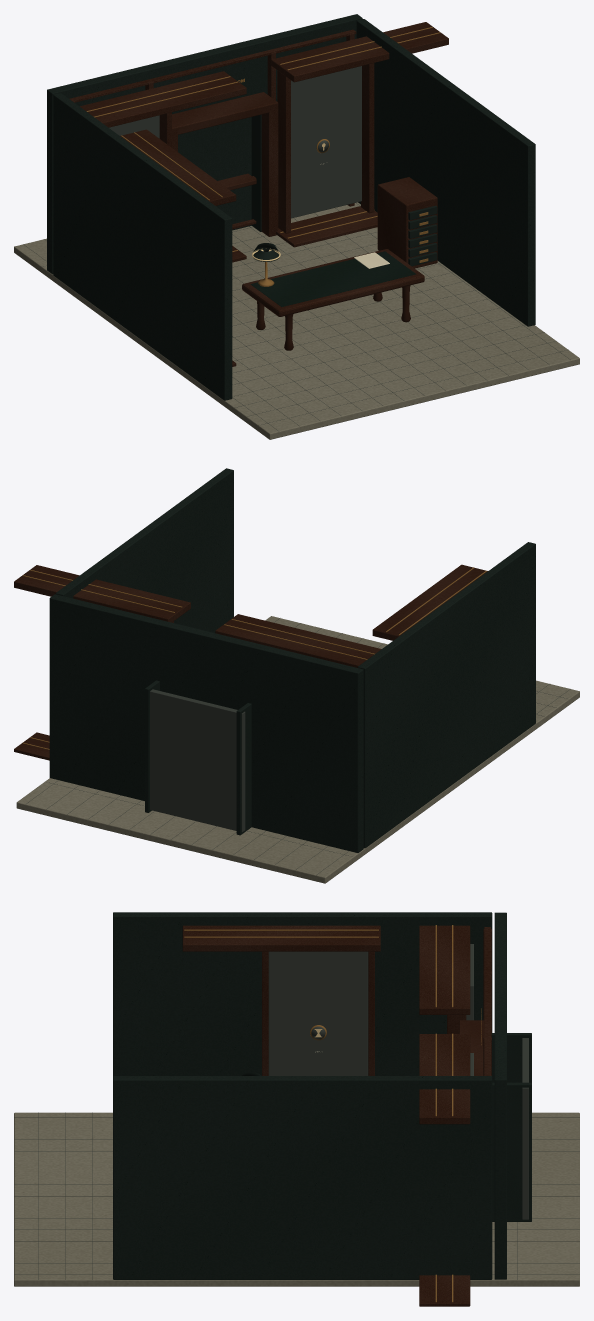
Rendered from conservation-room.glb.
3 views of the same model, one above another, from view 1: azimuth 30°, elevation 25°; view 2: azimuth 150°, elevation 25°; view 3: azimuth 270°, elevation 25° (orthographic). The views are drawn at different scales.
Parts seen in each view (by area): view 1: Ledger_Conservation_Room / Museum green, Conservation limestone floor, Ledger_Conservation_Room / Walnut, Ledger_Hidden_Marks / Walnut.001, Ledger_Hidden_Marks / Engraved charcoal.001, Ledger_Hidden_Marks / Walnut.002, Ledger_Conservation_Room / Engraved charcoal, Conservation felt work surface, Ledger_Hidden_Marks / Walnut, Ledger_Hidden_Marks / Aged brass.002, Ledger_Hidden_Marks / Engraved charcoal.002; view 2: Ledger_Conservation_Room / Museum green, Conservation limestone floor, Ledger_Conservation_Room / Engraved charcoal, Ledger_Hidden_Marks / Walnut.001, Ledger_Hidden_Marks / Walnut.002, Ledger_Hidden_Marks / Walnut, Ledger_Hidden_Marks / Aged brass.002; view 3: Ledger_Conservation_Room / Museum green, Conservation limestone floor, Ledger_Hidden_Marks / Engraved charcoal, Ledger_Hidden_Marks / Walnut, Ledger_Hidden_Marks / Walnut.001, Ledger_Hidden_Marks / Walnut.002, Ledger_Conservation_Room / Engraved charcoal, Ledger_Conservation_Room / Walnut, Ledger_Hidden_Marks / Aged brass.001.
Boxes of the visible parts, box(x1,y1,x2,y2) form: Ledger_Conservation_Room / Museum green: box(47, 14, 535, 400); Conservation limestone floor: box(14, 202, 579, 439); Ledger_Conservation_Room / Walnut: box(69, 29, 437, 350); Ledger_Hidden_Marks / Walnut.001: box(271, 22, 448, 247); Ledger_Hidden_Marks / Engraved charcoal.001: box(291, 66, 361, 218); Ledger_Hidden_Marks / Walnut.002: box(80, 71, 246, 262); Ledger_Conservation_Room / Engraved charcoal: box(23, 203, 570, 431); Conservation felt work surface: box(250, 251, 415, 306); Ledger_Hidden_Marks / Walnut: box(120, 129, 236, 366); Ledger_Hidden_Marks / Aged brass.002: box(280, 27, 440, 238); Ledger_Hidden_Marks / Engraved charcoal.002: box(109, 115, 159, 138); Ledger_Conservation_Room / Museum green: box(49, 468, 535, 852); Conservation limestone floor: box(16, 616, 579, 883); Ledger_Conservation_Room / Engraved charcoal: box(26, 618, 570, 875); Ledger_Hidden_Marks / Walnut.001: box(14, 565, 190, 760); Ledger_Hidden_Marks / Walnut.002: box(215, 614, 381, 667); Ledger_Hidden_Marks / Walnut: box(372, 564, 487, 640); Ledger_Hidden_Marks / Aged brass.002: box(22, 570, 182, 749); Ledger_Conservation_Room / Museum green: box(113, 912, 531, 1279); Conservation limestone floor: box(14, 1112, 579, 1286); Ledger_Hidden_Marks / Engraved charcoal: box(268, 951, 368, 1075); Ledger_Hidden_Marks / Walnut: box(182, 925, 380, 1075); Ledger_Hidden_Marks / Walnut.001: box(419, 1034, 470, 1306); Ledger_Hidden_Marks / Walnut.002: box(419, 925, 470, 1033); Ledger_Conservation_Room / Engraved charcoal: box(14, 1038, 579, 1279); Ledger_Conservation_Room / Walnut: box(459, 927, 491, 1075); Ledger_Hidden_Marks / Aged brass.001: box(184, 929, 378, 1040).
Size of the model in its own units: 8.19 by 4.04 by 10.
8 materials, 6 textured.
